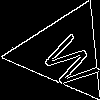W: (38, 27, 100, 93)
